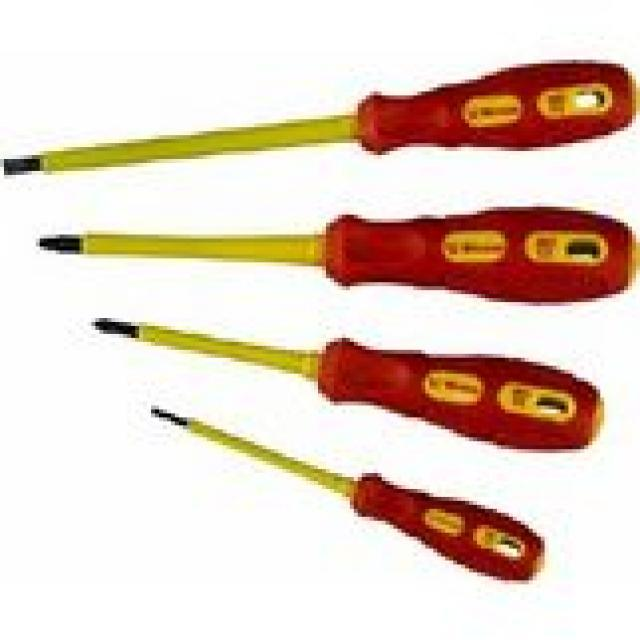screwdriver: (75, 298, 640, 457), (0, 52, 640, 185), (125, 403, 556, 590), (12, 195, 640, 302)
